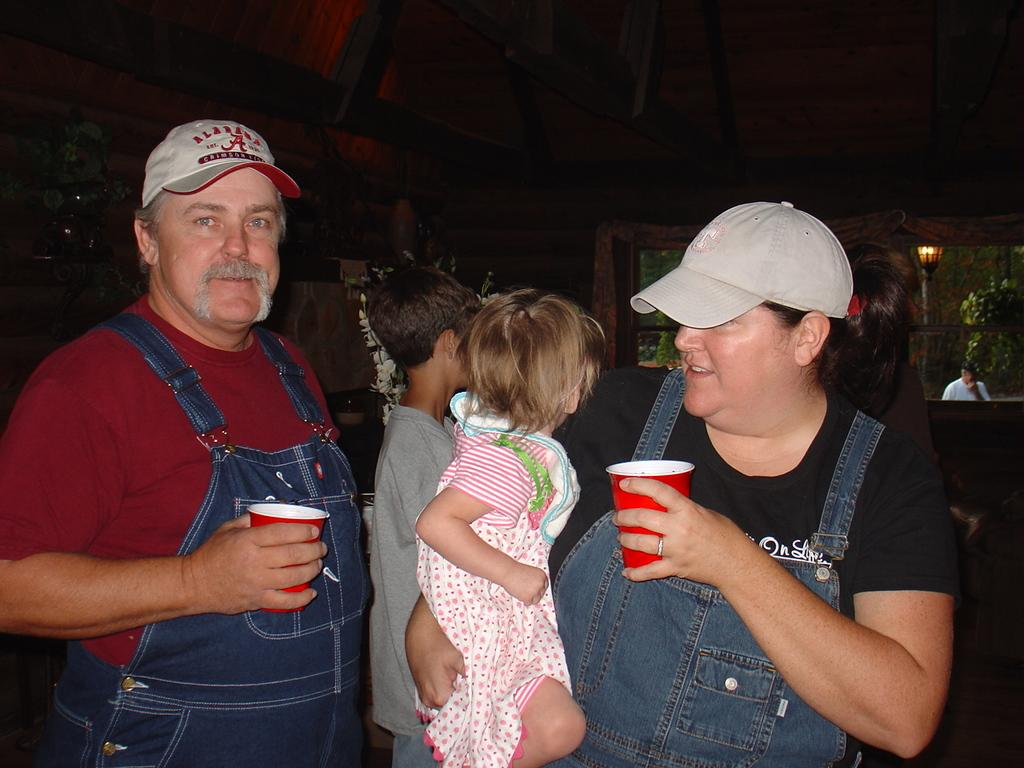Hat: (630, 196, 862, 330), (143, 117, 303, 207)
